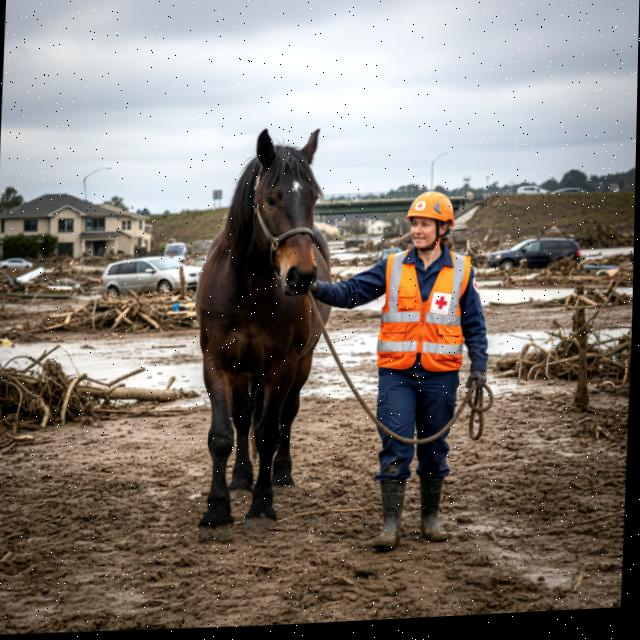horse: (169, 120, 351, 529)
rescuer: (304, 162, 506, 571)
